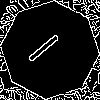I: (25, 25, 69, 65)
